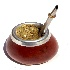guampa: (2, 1, 61, 65)
